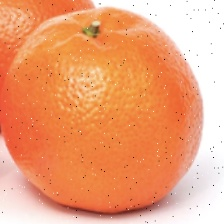orange: (21, 59, 204, 202)
